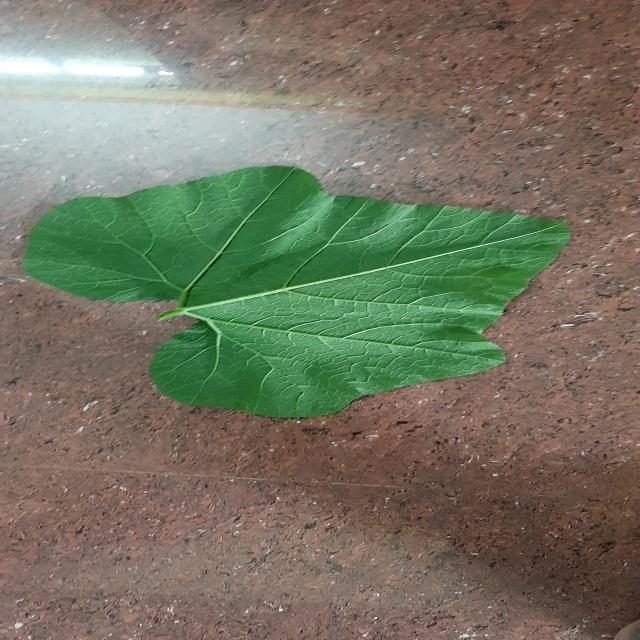pumpkin: (22, 166, 569, 418)
